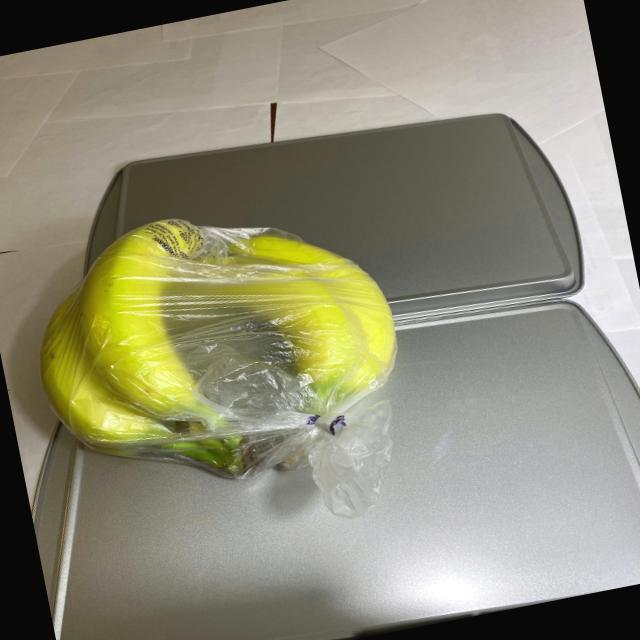banana: (14, 176, 424, 523)
